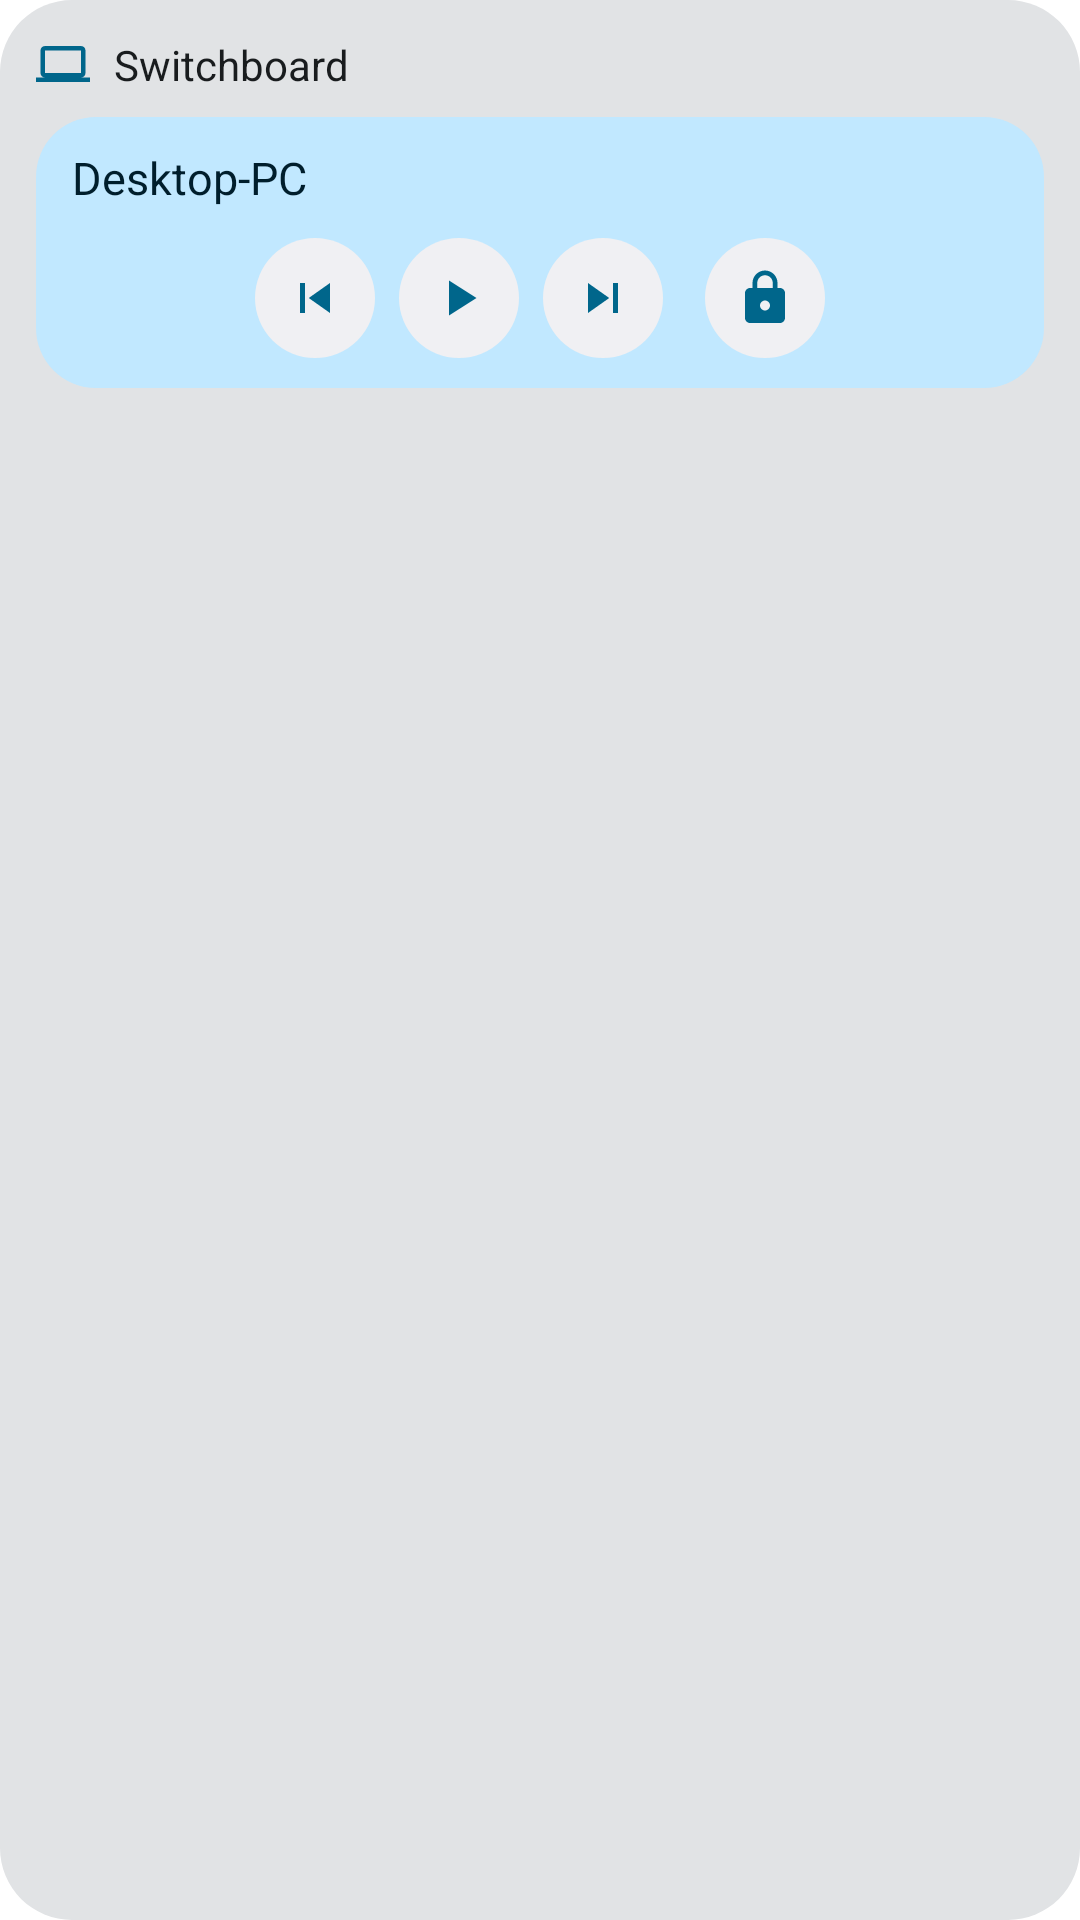

Named icons in this screenshot (1080x1920) and their centers, point (x, y):
widget computer: point (63, 64)
widget lock: point (765, 298)
widget next: point (603, 298)
widget play: point (459, 298)
widget prev: point (315, 298)
